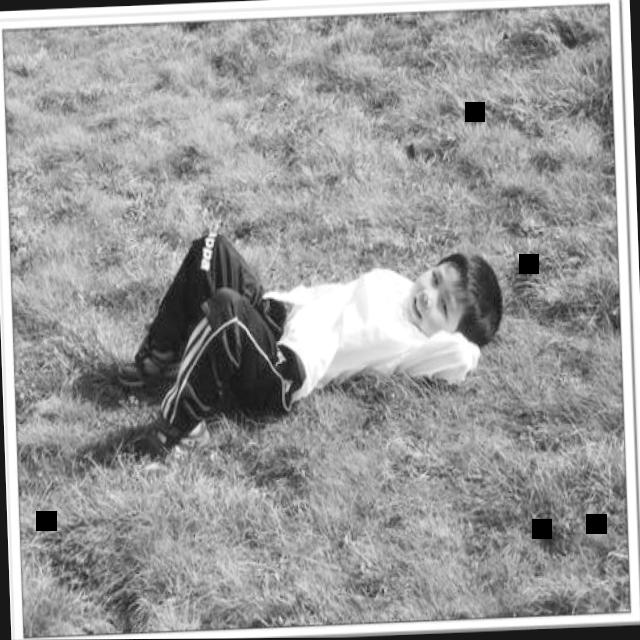Fall-Detected: (106, 200, 512, 464)
